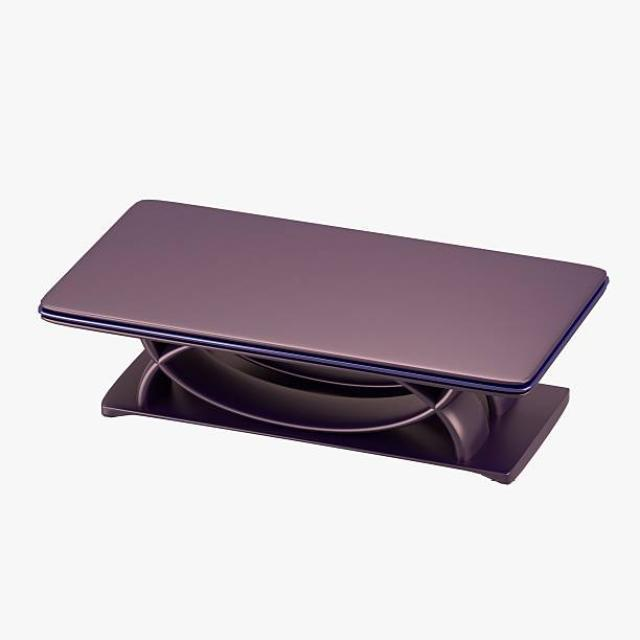table: (37, 196, 608, 484)
